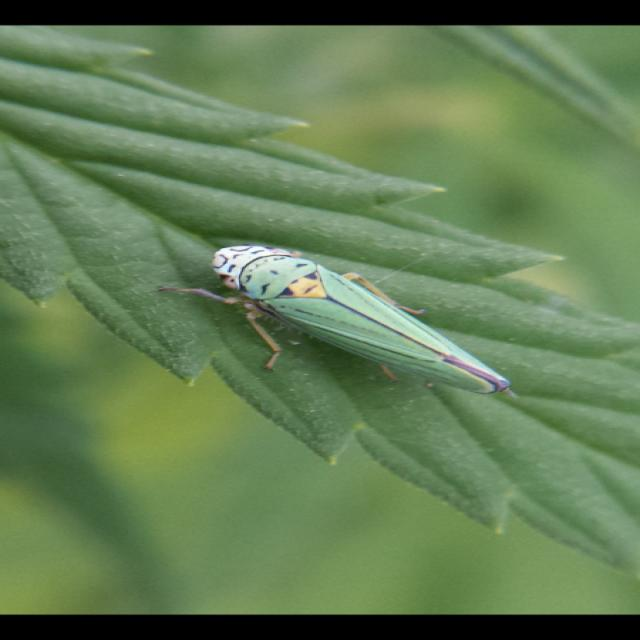Yechan: (158, 220, 522, 408)
